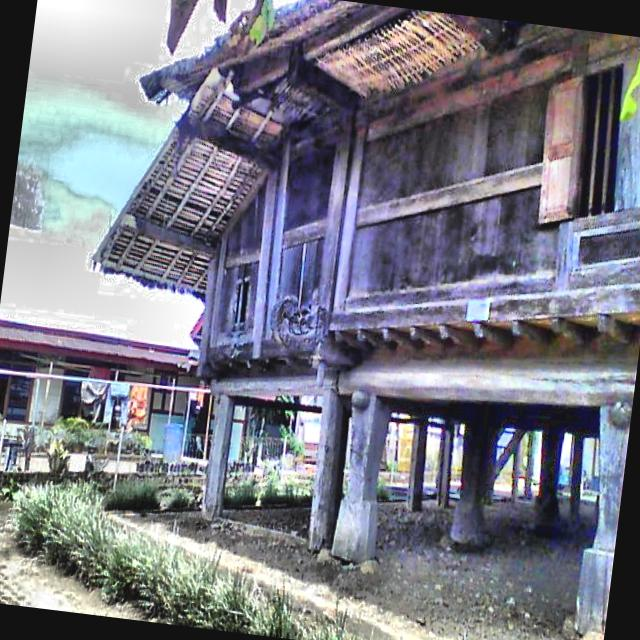column: (574, 407, 631, 639), (332, 394, 391, 562), (451, 424, 500, 543), (308, 394, 343, 551), (202, 394, 234, 520), (537, 431, 564, 511), (406, 416, 428, 510), (436, 420, 455, 506), (570, 434, 584, 512)
roof: (92, 0, 550, 298)
wall: (197, 38, 640, 365)
window: (540, 59, 640, 223)
